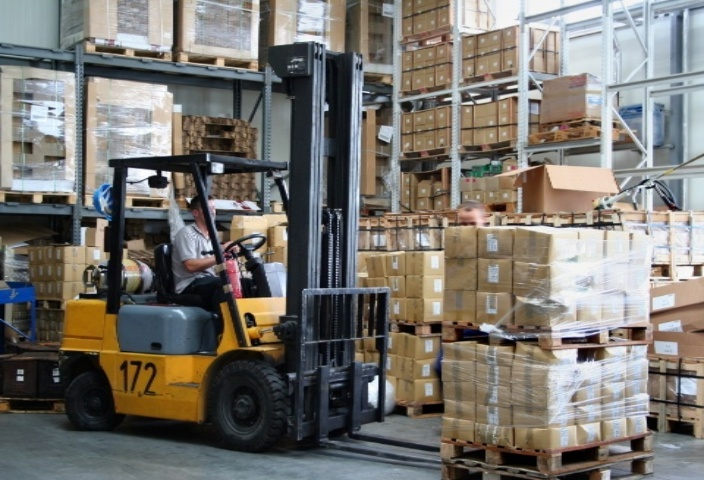industrial: (31, 29, 414, 467)
